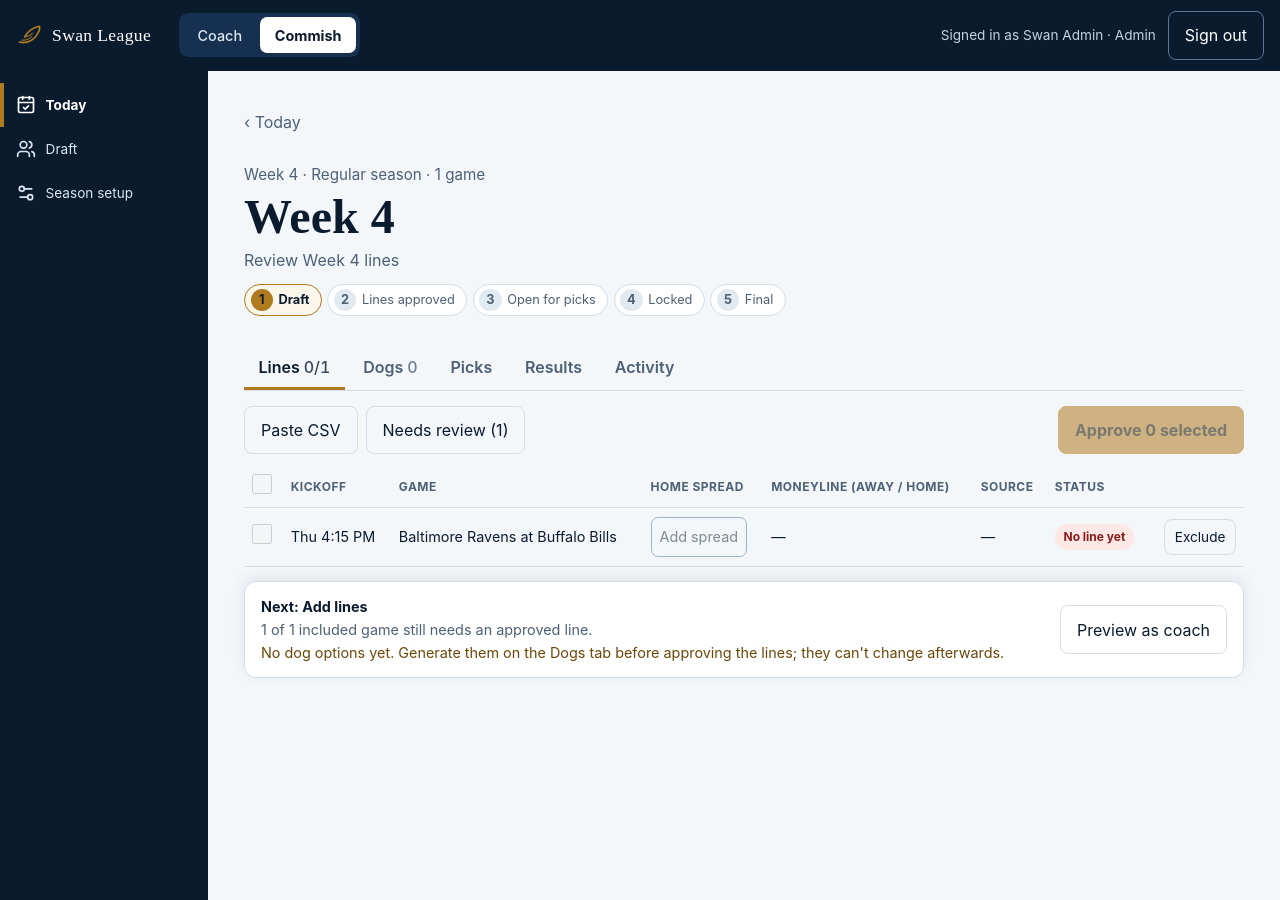
a typed spread can be saved without approving, as a manual line
Expected: the table named "Lines" is shown, x1=244 y1=466 x2=1244 y2=567
In the field named "Spread for Bills": {"x": 699, "y": 537} x1=651 y1=517 x2=747 y2=557, type "-3.5"
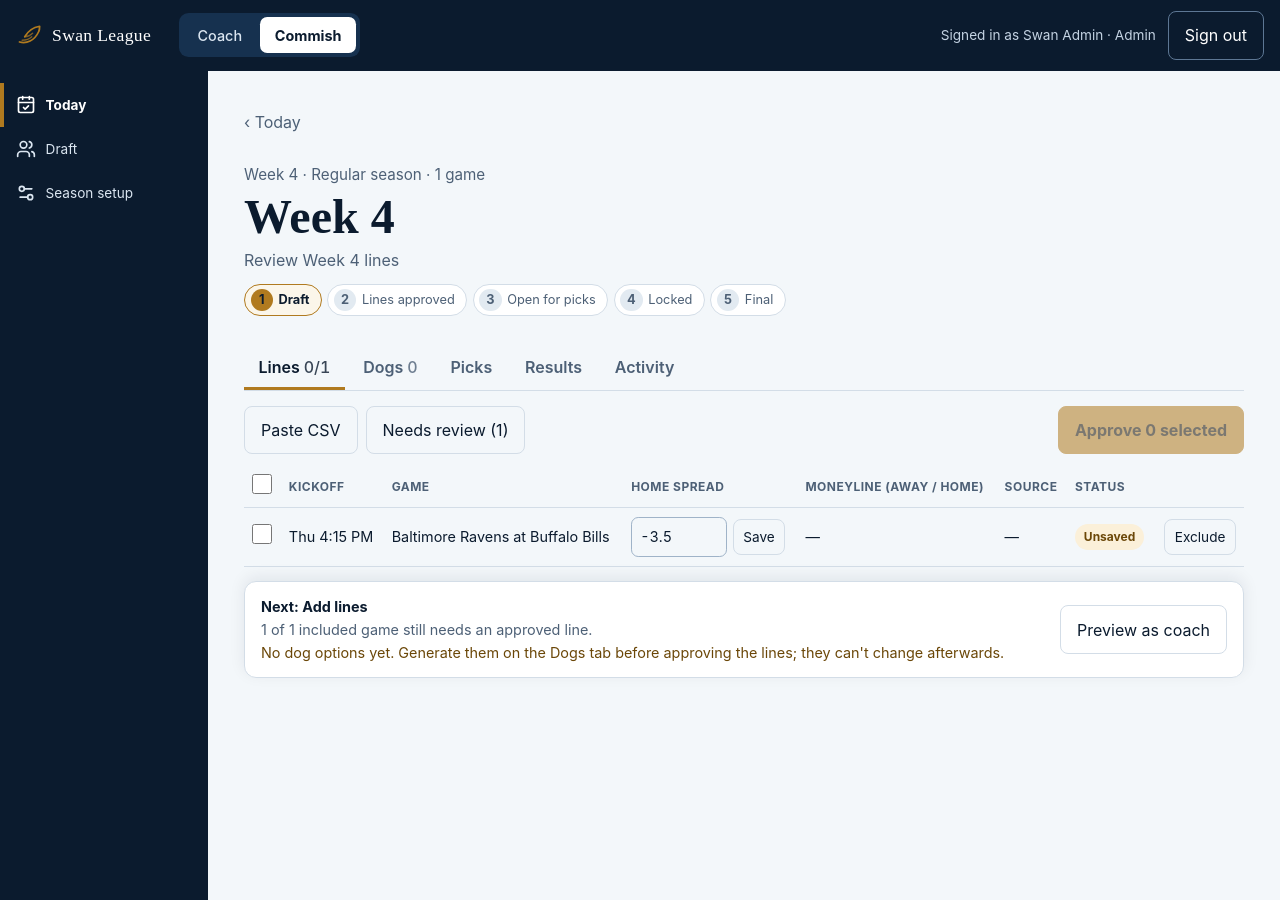
Result: the row "Baltimore Ravens at Buffalo Bills" shows "Unsaved" at x1=1084 y1=529 x2=1135 y2=544
Click the button "Save": {"x": 759, "y": 537} x1=733 y1=519 x2=785 y2=555
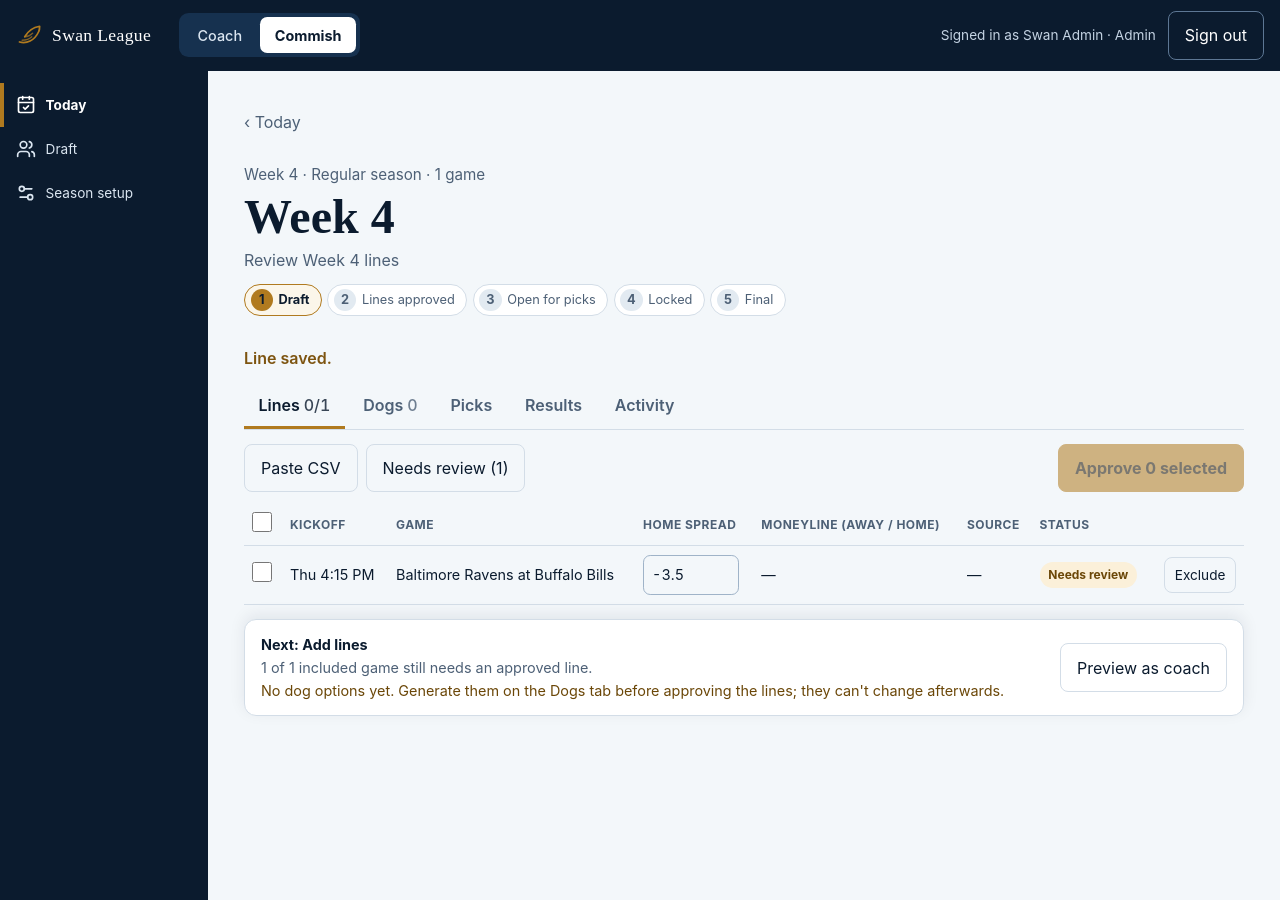
Result: the text "Line saved." is shown at x1=244 y1=348 x2=332 y2=368
Result: the row "Baltimore Ravens at Buffalo Bills" shows "Needs review" at x1=1048 y1=567 x2=1128 y2=582
